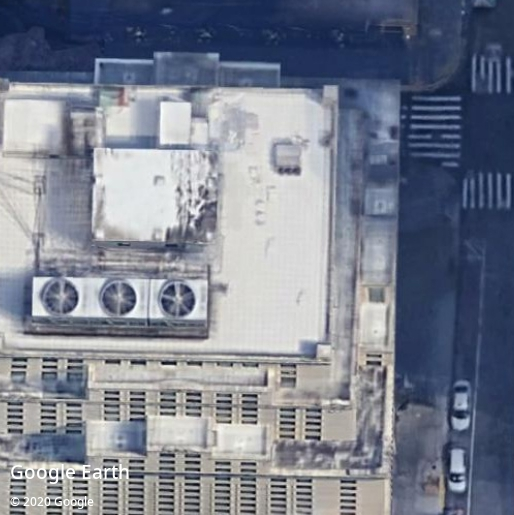Vent: (99, 280, 138, 316), (157, 281, 196, 317), (42, 277, 78, 315)
